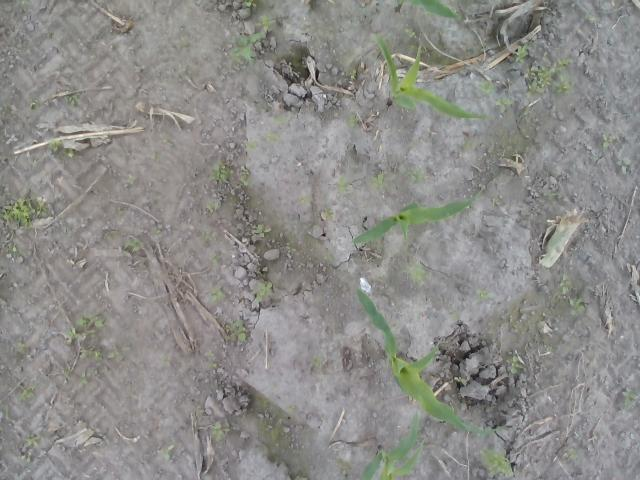Maize: (355, 286, 507, 438), (371, 31, 493, 122), (349, 192, 479, 250), (358, 411, 424, 480), (394, 0, 462, 21)
Weeds: (526, 56, 577, 94), (0, 197, 50, 230), (64, 310, 106, 344), (226, 32, 268, 65), (478, 446, 514, 477), (209, 158, 235, 186), (17, 435, 40, 462), (225, 319, 248, 343), (408, 259, 431, 282), (80, 348, 120, 361), (400, 166, 426, 185), (472, 286, 497, 304), (568, 294, 588, 316), (254, 282, 274, 304), (559, 271, 574, 296), (514, 43, 530, 64), (495, 95, 513, 113), (80, 367, 98, 385), (255, 14, 272, 33), (478, 80, 498, 96), (19, 384, 39, 400), (616, 157, 632, 176), (510, 354, 525, 374), (210, 420, 224, 441), (622, 388, 638, 406), (254, 224, 273, 238), (207, 198, 223, 214), (210, 287, 224, 304), (63, 94, 81, 107), (368, 173, 384, 187), (158, 446, 172, 462), (347, 112, 359, 130), (337, 463, 353, 476), (199, 230, 217, 241), (48, 138, 62, 152), (336, 176, 348, 192), (564, 446, 576, 462), (2, 243, 16, 256), (208, 352, 218, 369), (602, 134, 614, 148), (311, 355, 323, 369), (266, 132, 280, 144), (15, 340, 27, 354), (129, 239, 140, 254), (241, 140, 256, 151), (270, 116, 288, 125), (404, 27, 417, 39), (238, 174, 250, 187), (15, 0, 32, 9), (322, 207, 334, 219), (284, 242, 298, 252), (0, 408, 12, 419), (208, 255, 222, 264), (28, 99, 40, 109), (64, 148, 74, 160), (358, 7, 369, 17), (150, 226, 161, 236), (128, 174, 137, 186), (452, 376, 467, 383), (584, 15, 598, 22), (243, 0, 257, 7), (298, 195, 310, 203), (350, 69, 358, 80), (451, 8, 460, 16), (544, 192, 557, 197), (542, 343, 550, 351), (288, 404, 296, 412), (48, 30, 56, 38)
